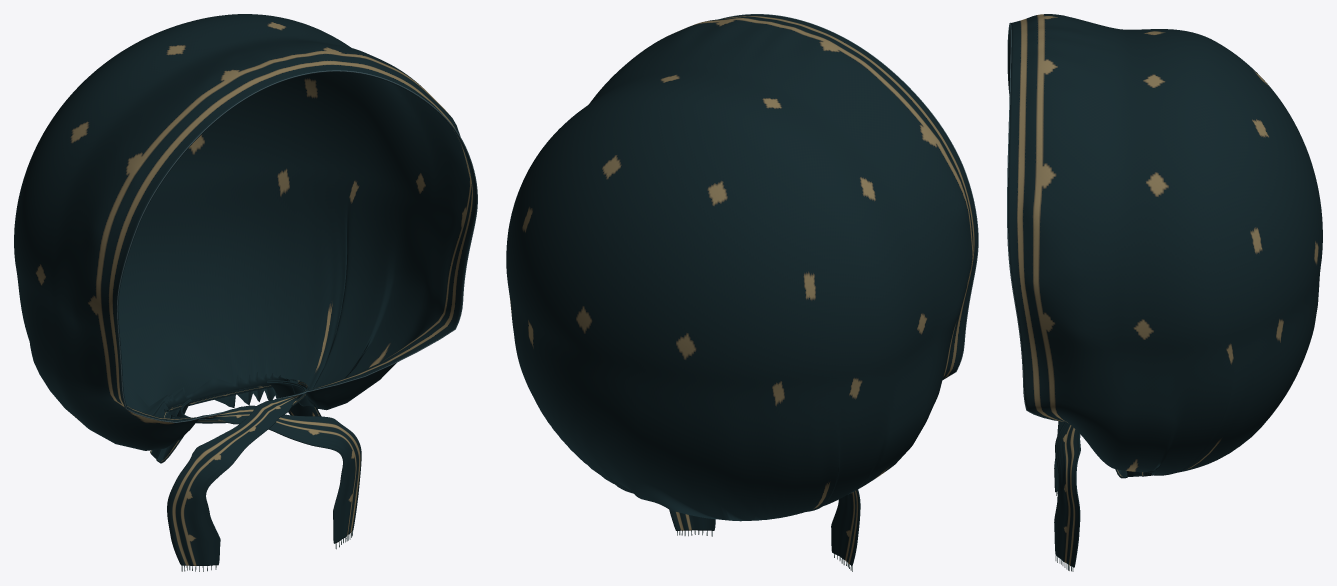
File: Masculine-afro-sweatshirt-pashmina250-headgear.glb
3 views of the same model, side by side, from view 1: azimuth 30°, elevation 25°; view 2: azimuth 150°, elevation 25°; view 3: azimuth 270°, elevation 25° (orthographic). The views are drawn at different scales.
Visible parts, largest first — view 1: 226 headgear / Headwear / continuous woven pashmina239, 226 headgear / Headwear / face edge239; view 2: 226 headgear / Headwear / continuous woven pashmina239, 226 headgear / Headwear / face edge239; view 3: 226 headgear / Headwear / continuous woven pashmina239, 226 headgear / Headwear / face edge239.
Boxes of the visible parts, <box> form: 226 headgear / Headwear / continuous woven pashmina239: <box>14,14,477,565</box>; 226 headgear / Headwear / face edge239: <box>117,70,477,422</box>; 226 headgear / Headwear / continuous woven pashmina239: <box>506,14,977,566</box>; 226 headgear / Headwear / face edge239: <box>719,14,978,380</box>; 226 headgear / Headwear / continuous woven pashmina239: <box>1008,14,1322,567</box>; 226 headgear / Headwear / face edge239: <box>1007,22,1057,420</box>.
Size of the model in its own units: 1.14 by 1.45 by 0.833.
3 materials, 1 textured.
